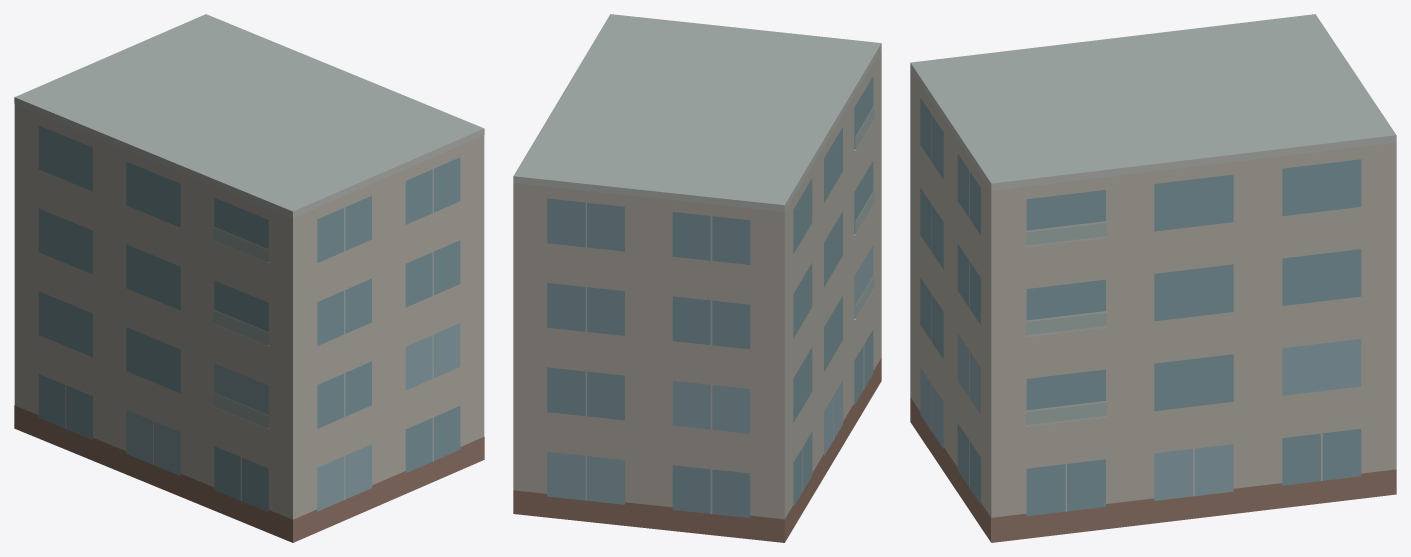
The model's file is residential-827f5b71-2bc8-457d-8f0f-a1dee66c8c92.glb.
3 views of the same model, side by side, from view 1: azimuth 30°, elevation 25°; view 2: azimuth 150°, elevation 25°; view 3: azimuth 270°, elevation 25° (orthographic). The views are drawn at different scales.
Visible parts, largest first — view 1: residential-827f5b71-2bc8-457d-8f0f-a1dee66c8c92.tmp; view 2: residential-827f5b71-2bc8-457d-8f0f-a1dee66c8c92.tmp; view 3: residential-827f5b71-2bc8-457d-8f0f-a1dee66c8c92.tmp.
Part boxes in pixels (left/top/right/bottom): residential-827f5b71-2bc8-457d-8f0f-a1dee66c8c92.tmp: left=14, top=14, right=484, bottom=542; residential-827f5b71-2bc8-457d-8f0f-a1dee66c8c92.tmp: left=513, top=14, right=881, bottom=542; residential-827f5b71-2bc8-457d-8f0f-a1dee66c8c92.tmp: left=910, top=14, right=1396, bottom=542.
Size of the model in its own units: 12.36 by 12.2 by 14.97.
